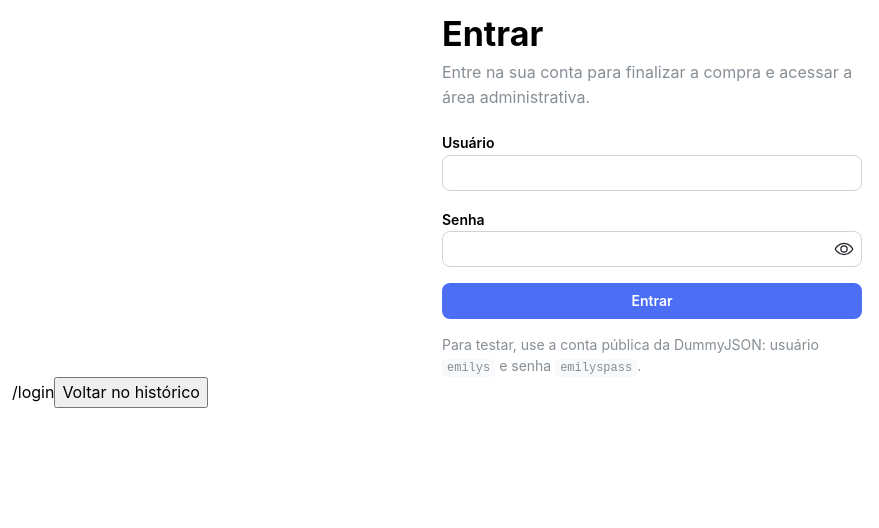
Test: LoginPage › com credenciais erradas, avisa, apaga a senha e põe o foco nela
Type "emilys" into the field labelled "Usuário" at (652, 173), box [442,155,862,191]
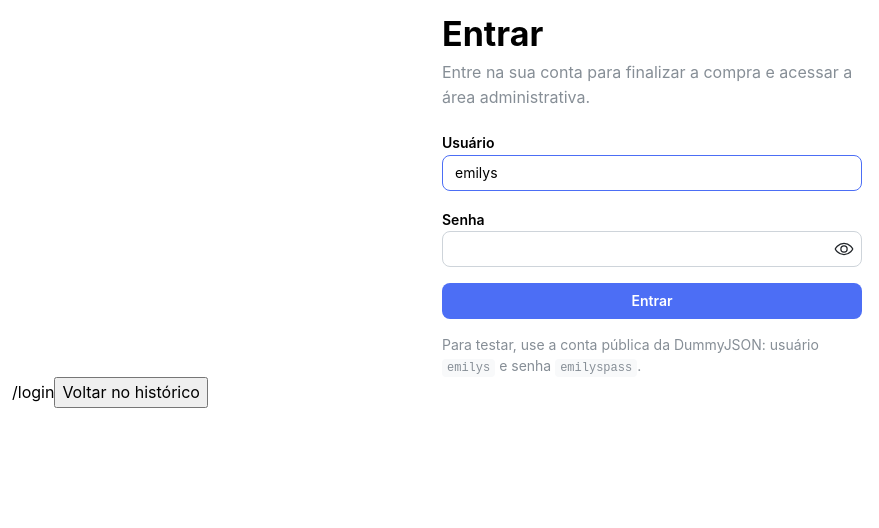
Type "errada" into the password field labelled "Senha" at (652, 249), box [443,232,861,266]
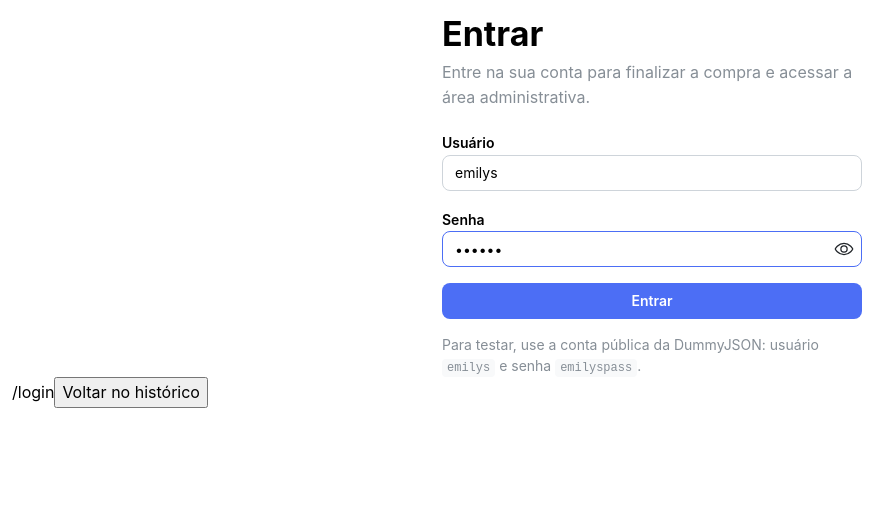
Click the button "Entrar" at (652, 301), box [442,283,862,319]
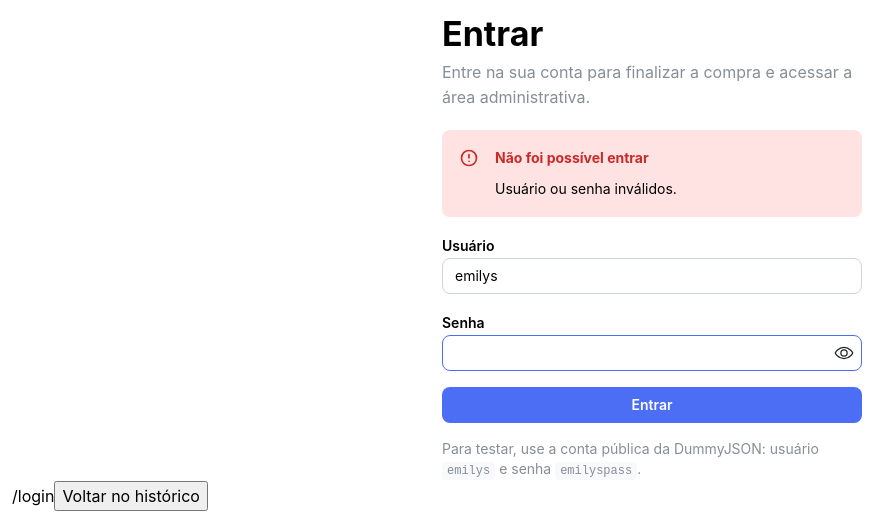
Expected: the message shows "Usuário ou senha inválidos.", [495,180,677,198]
Expected: the password field labelled "Senha" is empty, [443,336,861,370]
